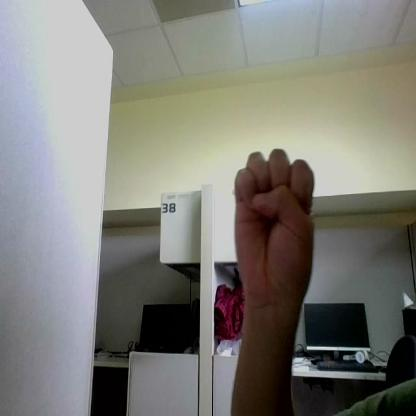S: (235, 150, 314, 297)
